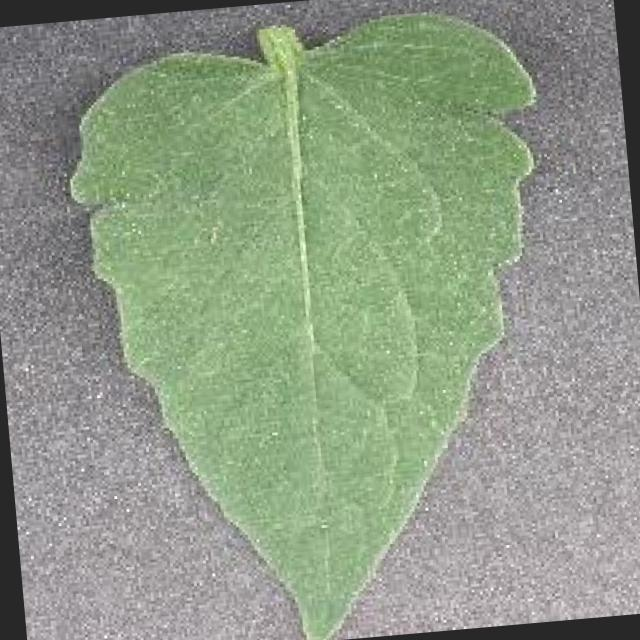healthy: (64, 7, 541, 640)
